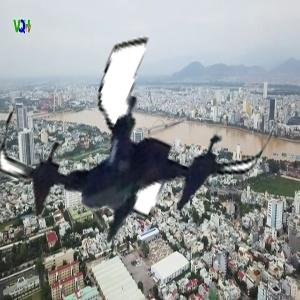drone: (3, 27, 255, 279)
